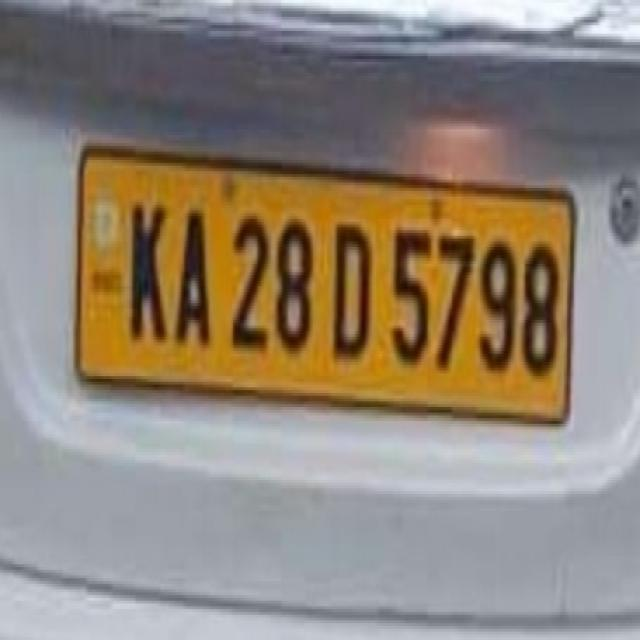5: (391, 206, 436, 388)
7: (436, 214, 479, 380)
8: (521, 226, 564, 382), (275, 201, 315, 364)
9: (478, 226, 519, 386)
A: (172, 184, 218, 358)
D: (331, 201, 374, 371)
K: (124, 188, 170, 352)
